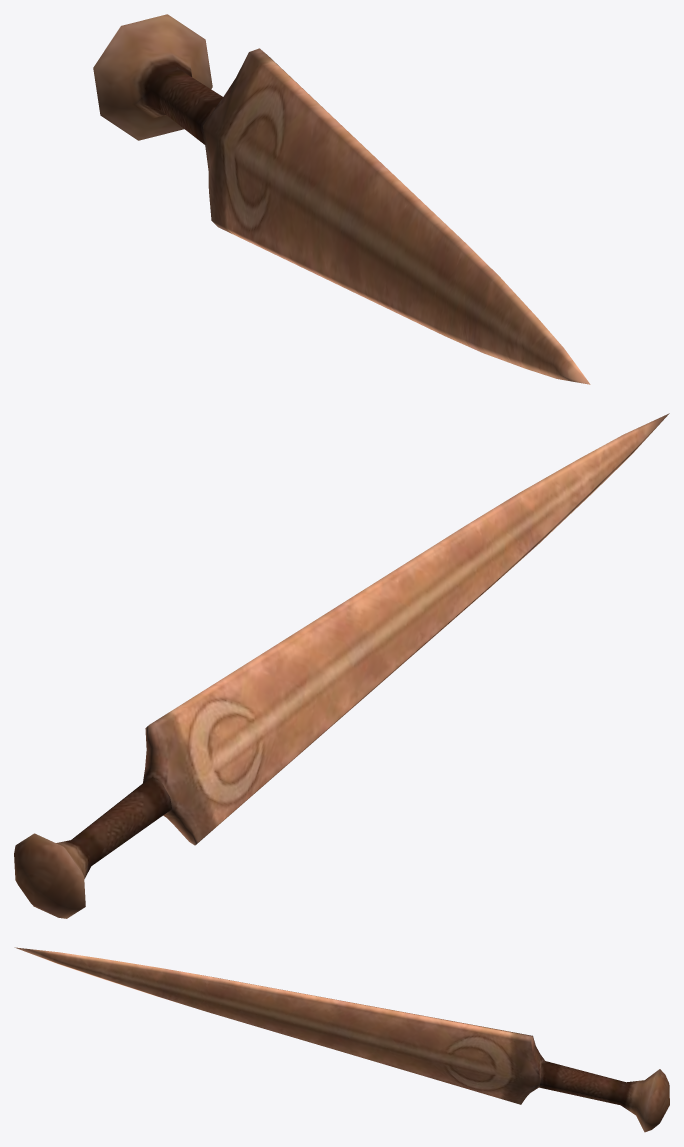
The model's file is rider-weapon-slice-copperweapons.glb.
3 renders of one model, top to bottom at view 1: azimuth 30°, elevation 25°; view 2: azimuth 150°, elevation 25°; view 3: azimuth 270°, elevation 25°, orthographic. The views are drawn at different scales.
Bounding box in the file's own units: 0.2272 × 0.2273 × 1.02.
Materials: 1 (1 with a texture image).
